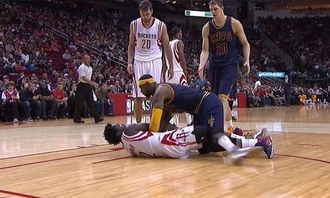fall: (131, 72, 237, 128)
